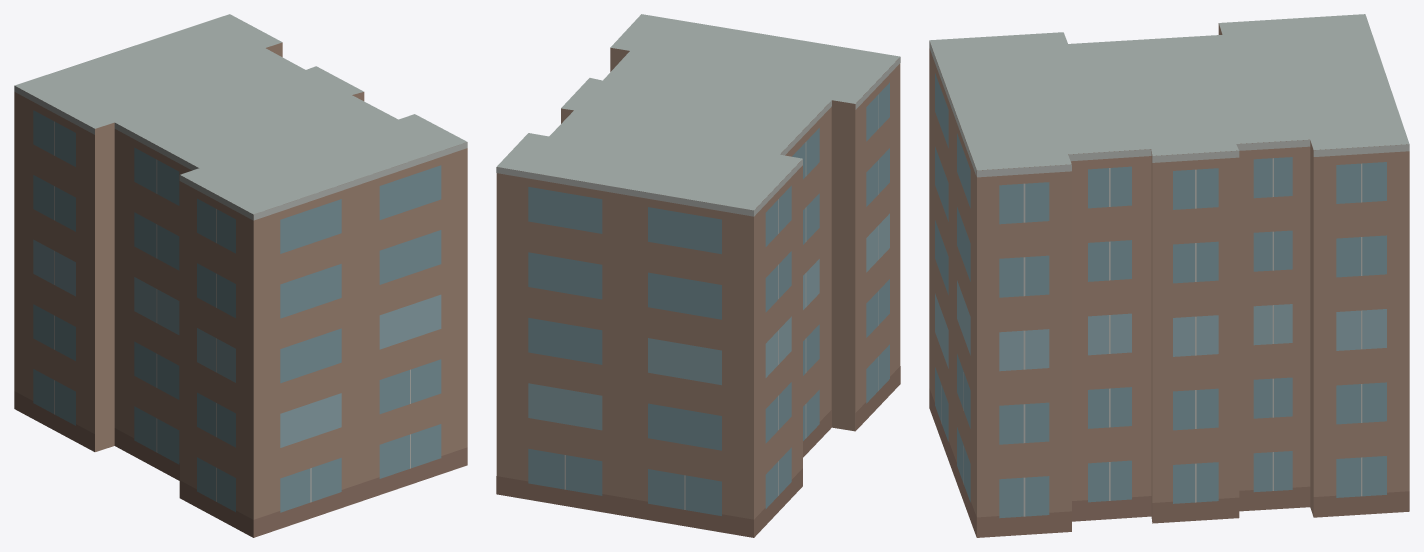
The model's file is survey-upis-33047641.glb.
The picture shows the model from 3 angles, left to right: view 1: azimuth 30°, elevation 25°; view 2: azimuth 150°, elevation 25°; view 3: azimuth 270°, elevation 25°; orthographic projection. The views are drawn at different scales.
Parts seen in each view (by area): view 1: survey-upis-33047641.tmp; view 2: survey-upis-33047641.tmp; view 3: survey-upis-33047641.tmp.
Boxes of the visible parts, x1=… form: survey-upis-33047641.tmp: x1=14, y1=14, x2=467, y2=537; survey-upis-33047641.tmp: x1=496, y1=14, x2=900, y2=537; survey-upis-33047641.tmp: x1=929, y1=14, x2=1409, y2=537.
Size of the model in its own units: 11.7 by 12.8 by 15.17.
